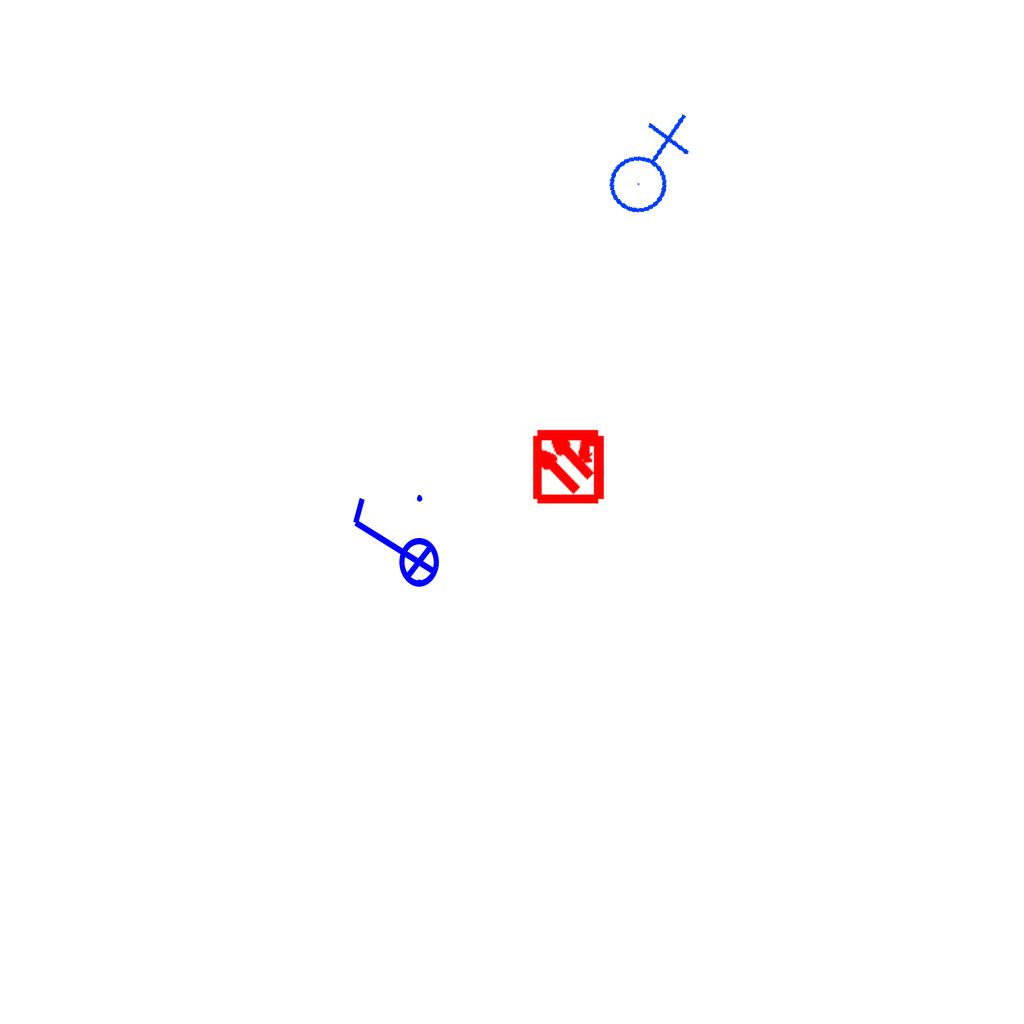Ausschalter_beleuchtet: (345, 489, 441, 601)
Elektroanschluss_allgemein_230V_Geraeteanschlussdose_230V: (588, 108, 705, 222)
OT_Multisensormelder_(Kombination_RMO_WMD): (512, 408, 625, 521)
